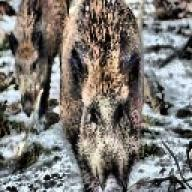boar: (57, 0, 145, 192)
